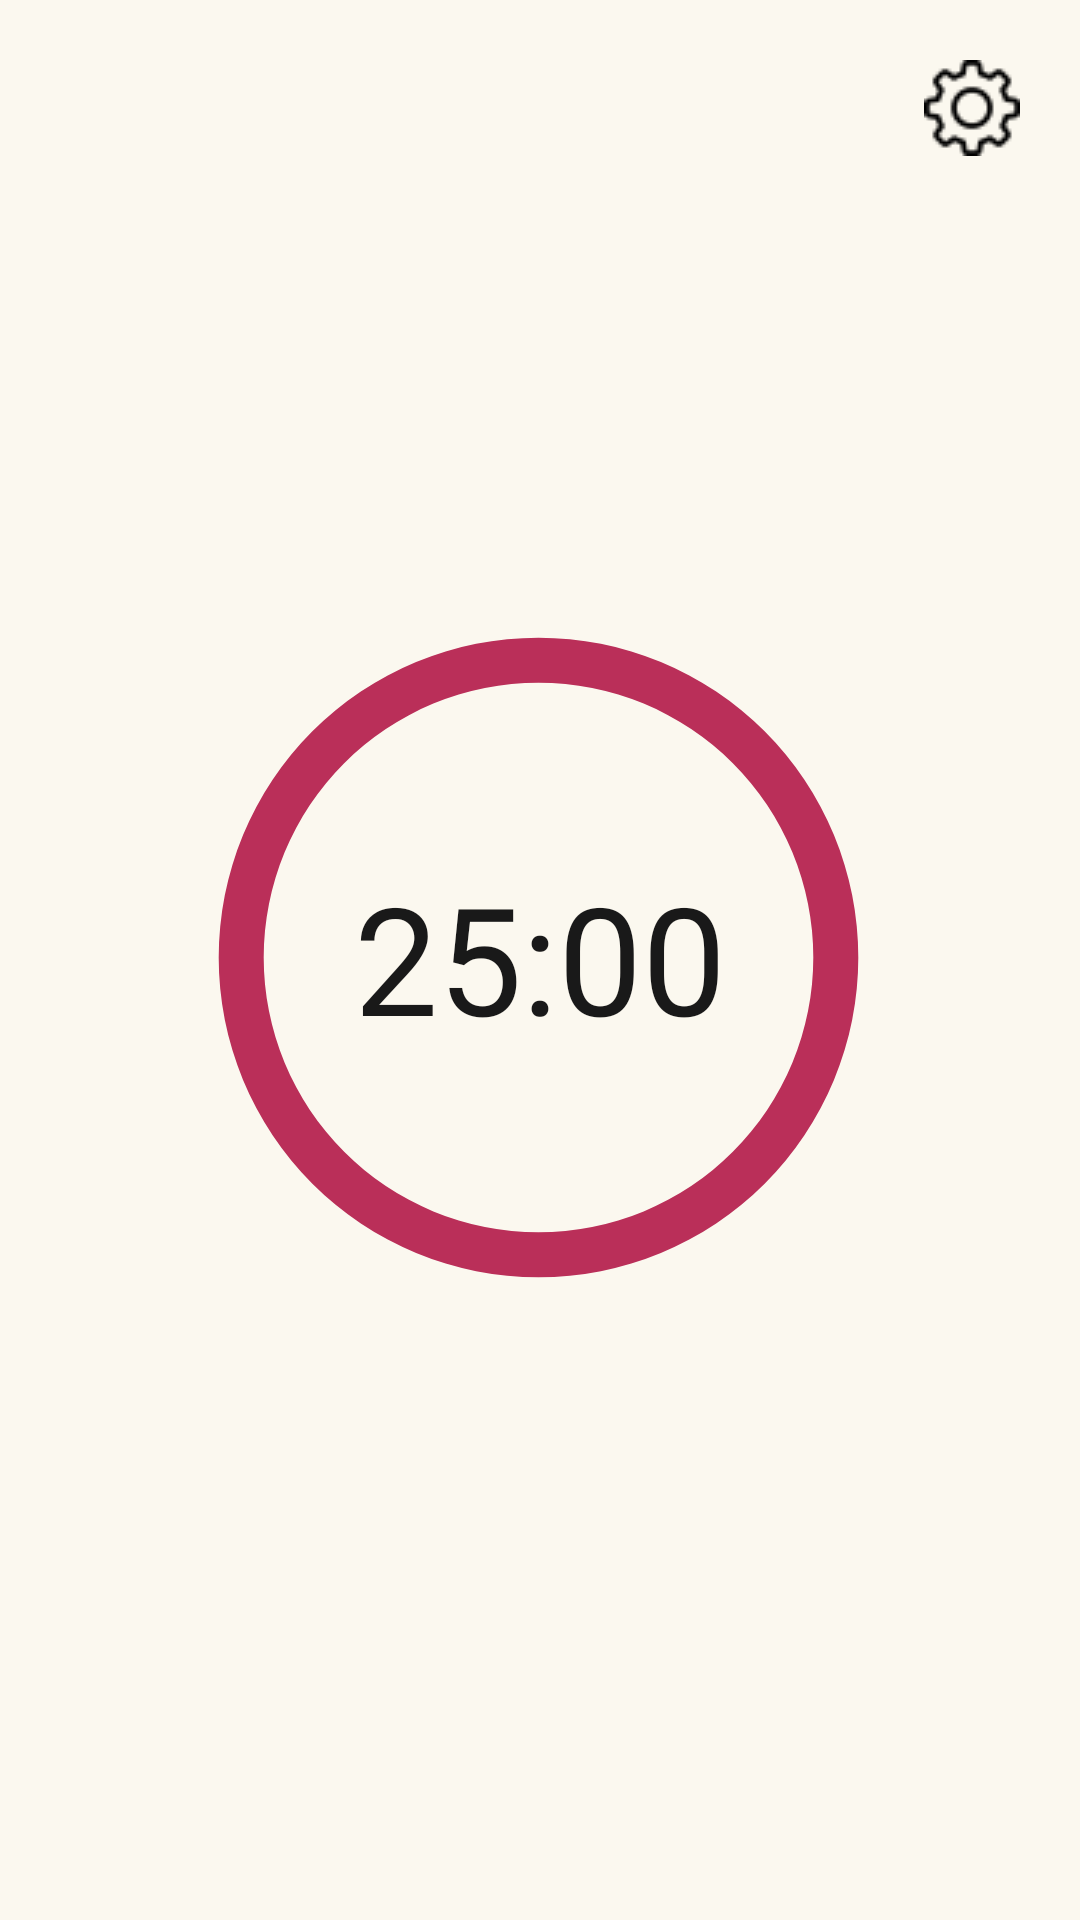

Screen size 1080w x 1920h. Icon name, then its center in pixels as (x=x, y=y):
Settings button: (x=972, y=108)
